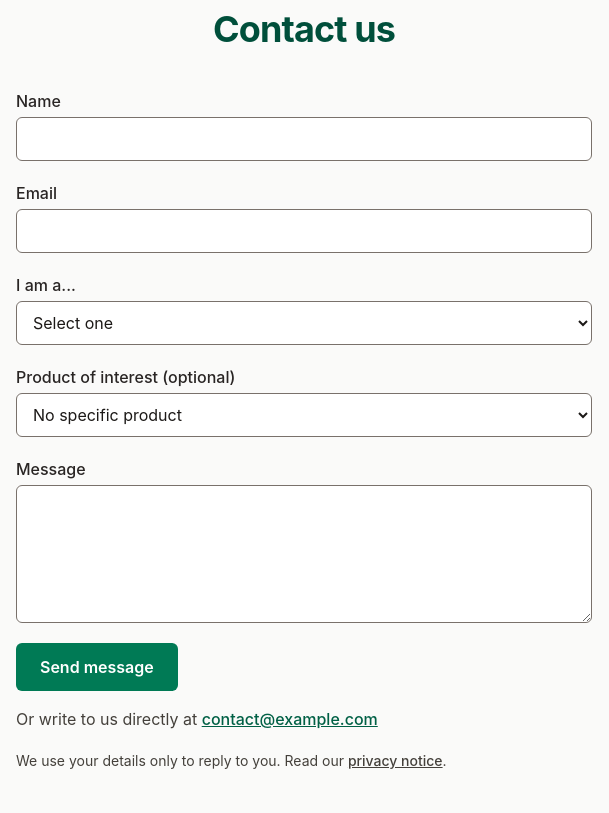
Test: ContactSection › edge cases › shows "Sending…" and ignores extra presses while the message is on its way
Type "Test Visitor" into the field with id "contact-name".
click(304, 139); type("Test Visitor")  # box [16,117,592,161]
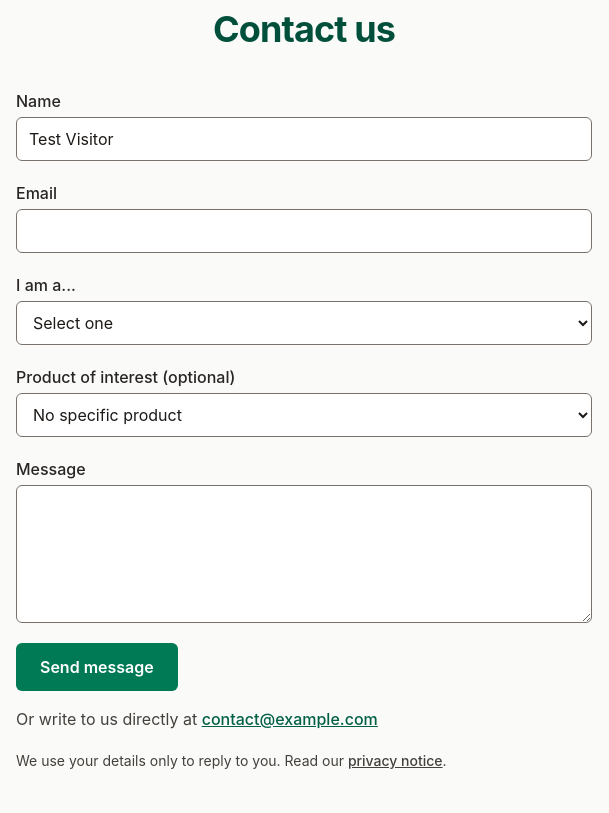
Type "visitor@example.com" into the field with id "contact-email".
click(304, 231); type("visitor@example.com")  # box [16,209,592,253]
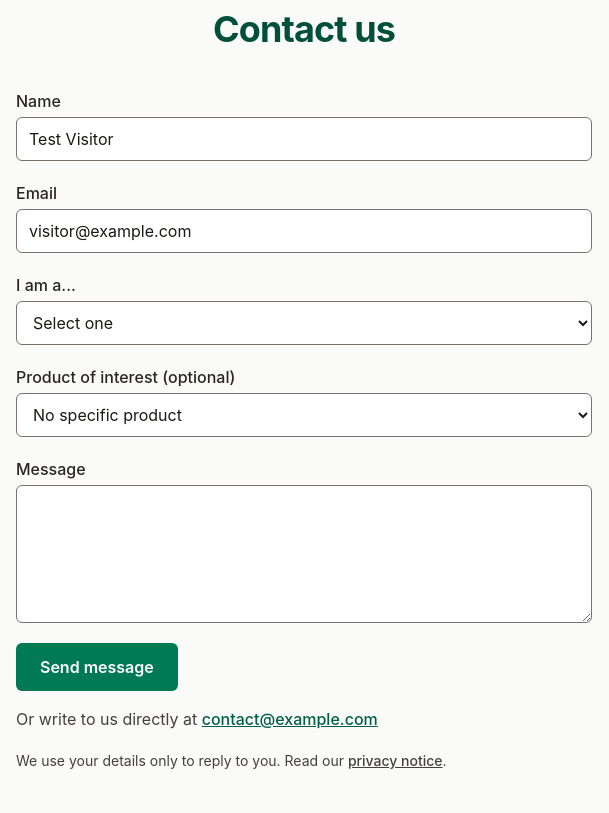
Select "Architect" in the dropdown with id "contact-visitor-type" at {"x": 304, "y": 323}, box [16,301,592,345]
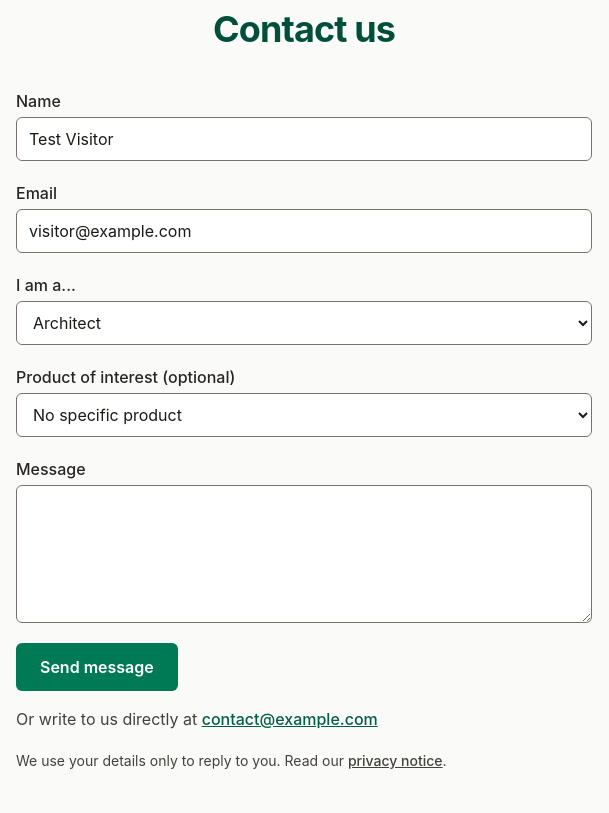
Type "Test message." into the text box with id "contact-message".
click(304, 554); type("Test message.")  # box [16,485,592,623]
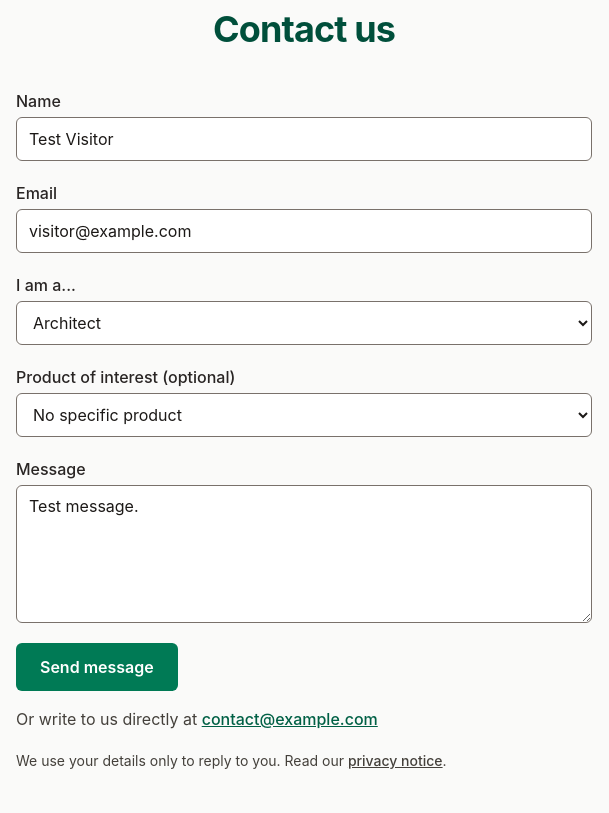
Submit the form
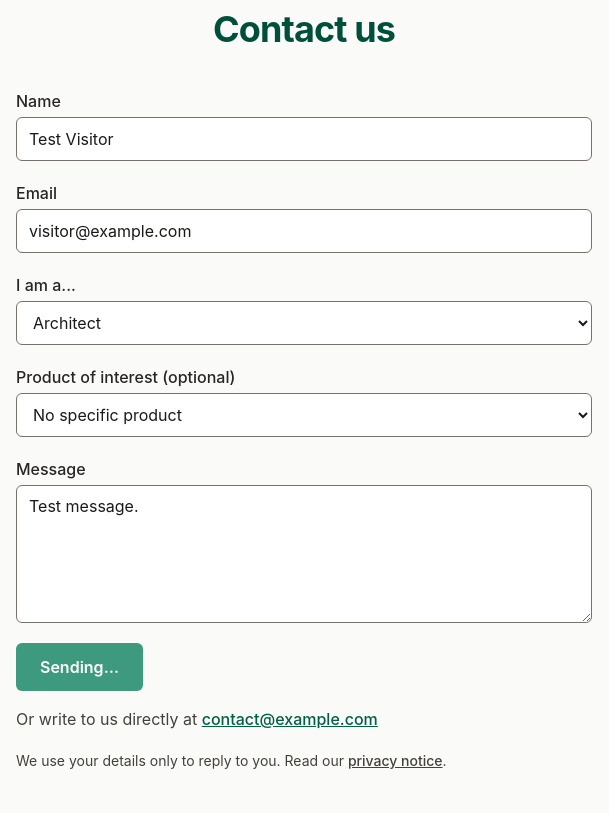
expect the button "Sending…" is shown: met, box [16,643,143,691]
Submit the form
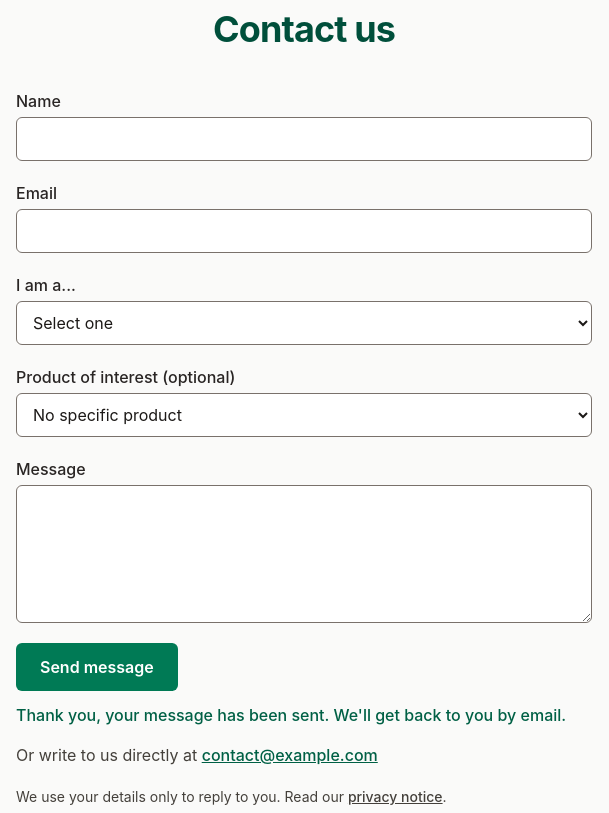
expect the button "Send message" is shown: met, box [16,643,178,691]
